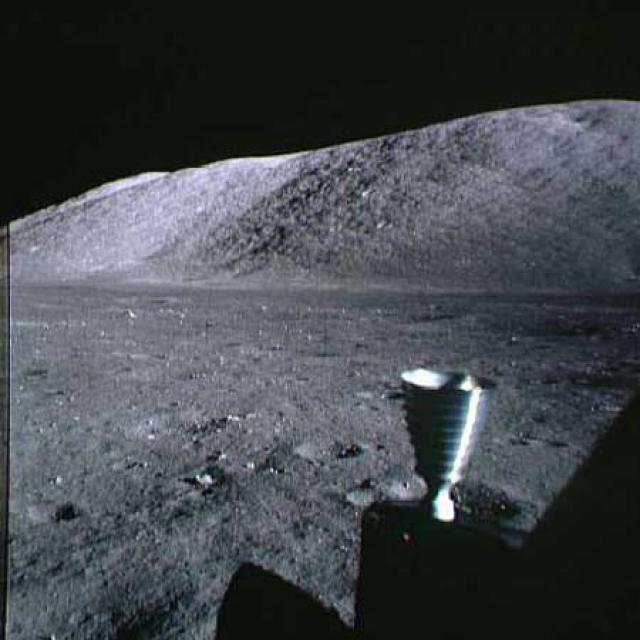artifact: (357, 352, 639, 638)
crater: (451, 348, 631, 386), (468, 310, 620, 339), (290, 433, 364, 463), (377, 306, 470, 326)
